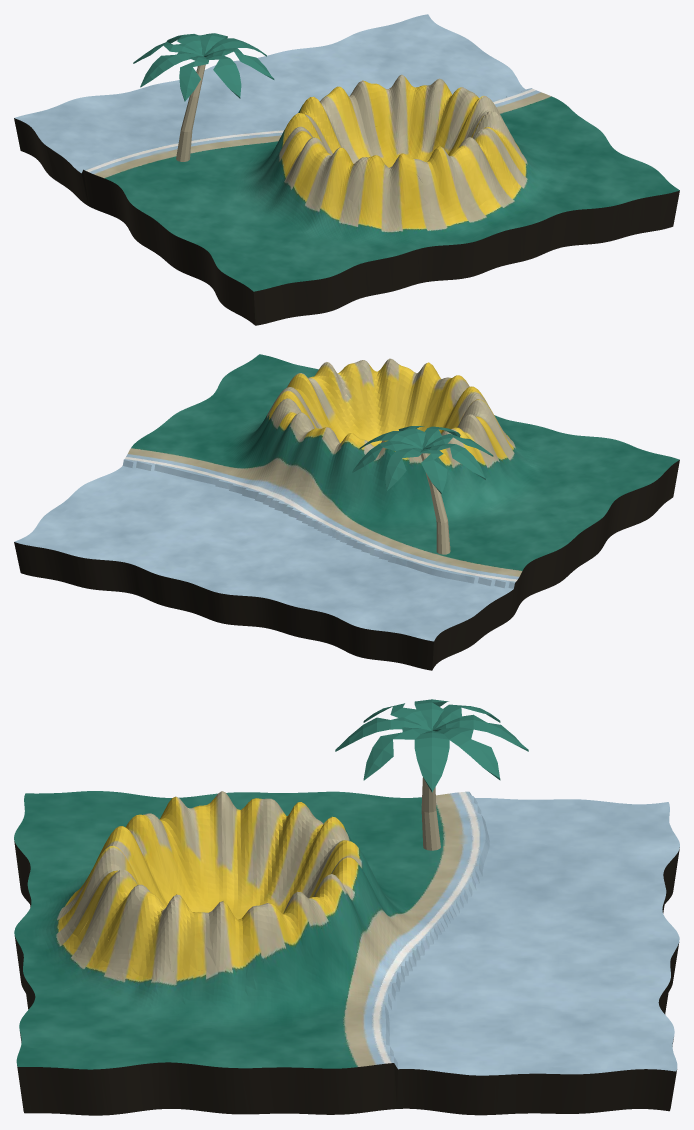
File: honolulu-oahu.glb
The picture shows the model from 3 angles, top to bottom: view 1: azimuth 30°, elevation 25°; view 2: azimuth 150°, elevation 25°; view 3: azimuth 270°, elevation 25°; orthographic projection. The views are drawn at different scales.
Bounding box in the file's own units: 0.8518 × 0.27 × 0.861.
Materials: 1 (1 with a texture image).
